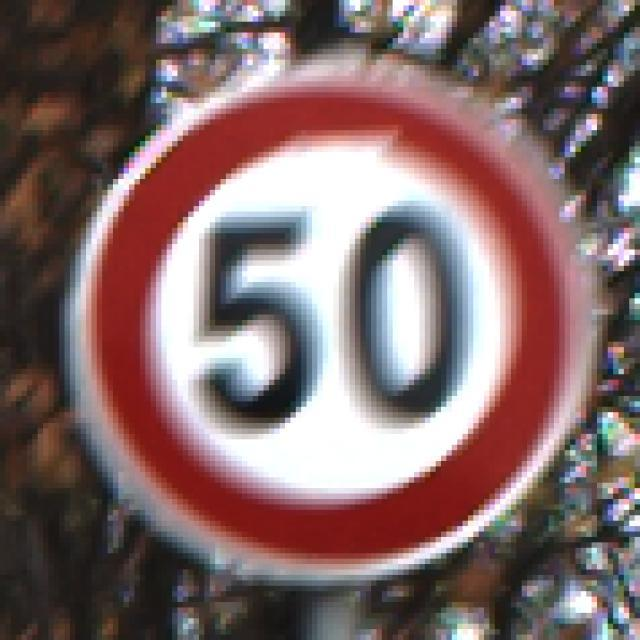speed limit 50: (59, 55, 601, 592)
